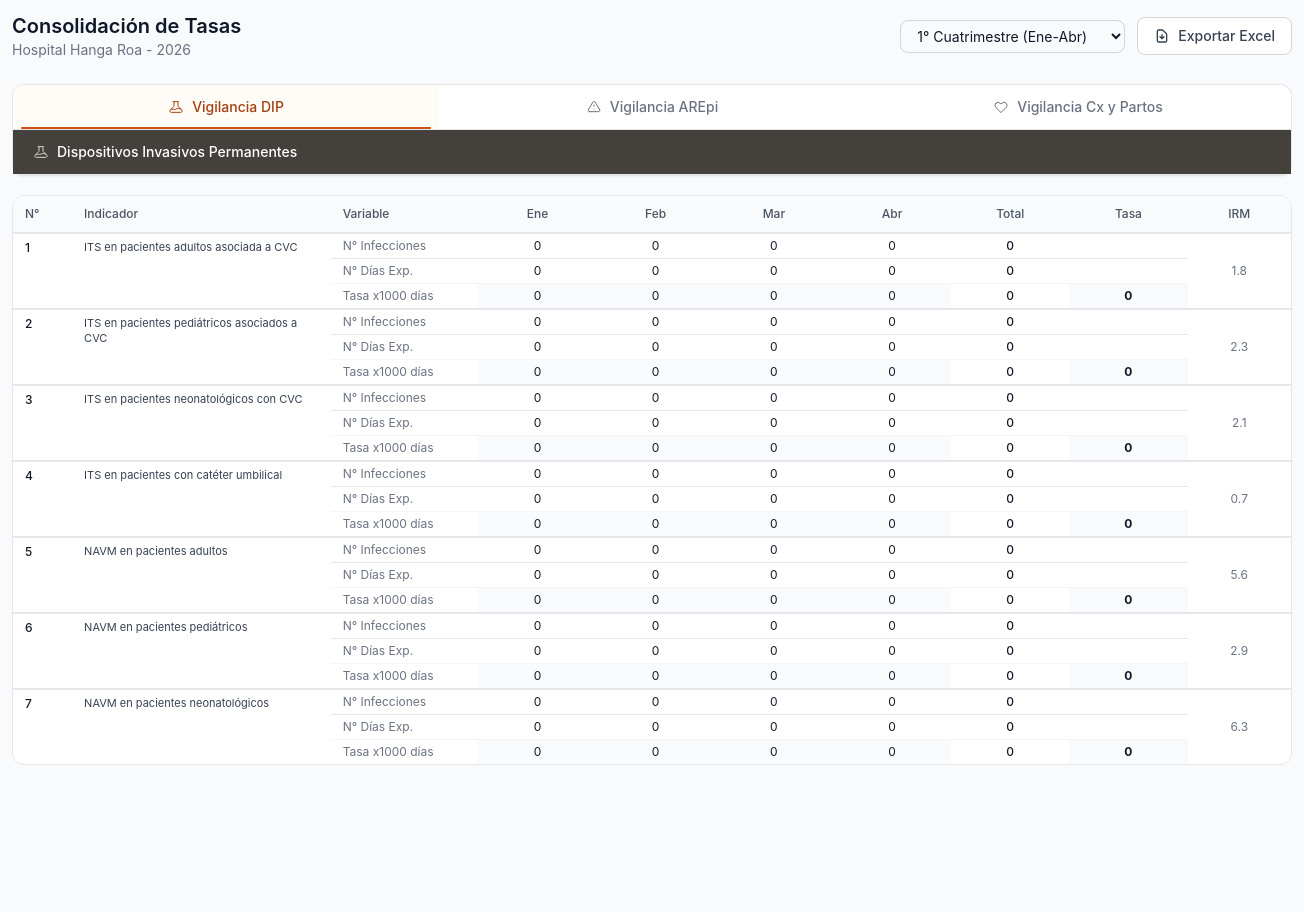
Test: ConsolidacionPage › switches to Cx/Partos tab
Click the button "Vigilancia Cx y Partos".
click(1078, 107)  # box [865,85,1291,129]
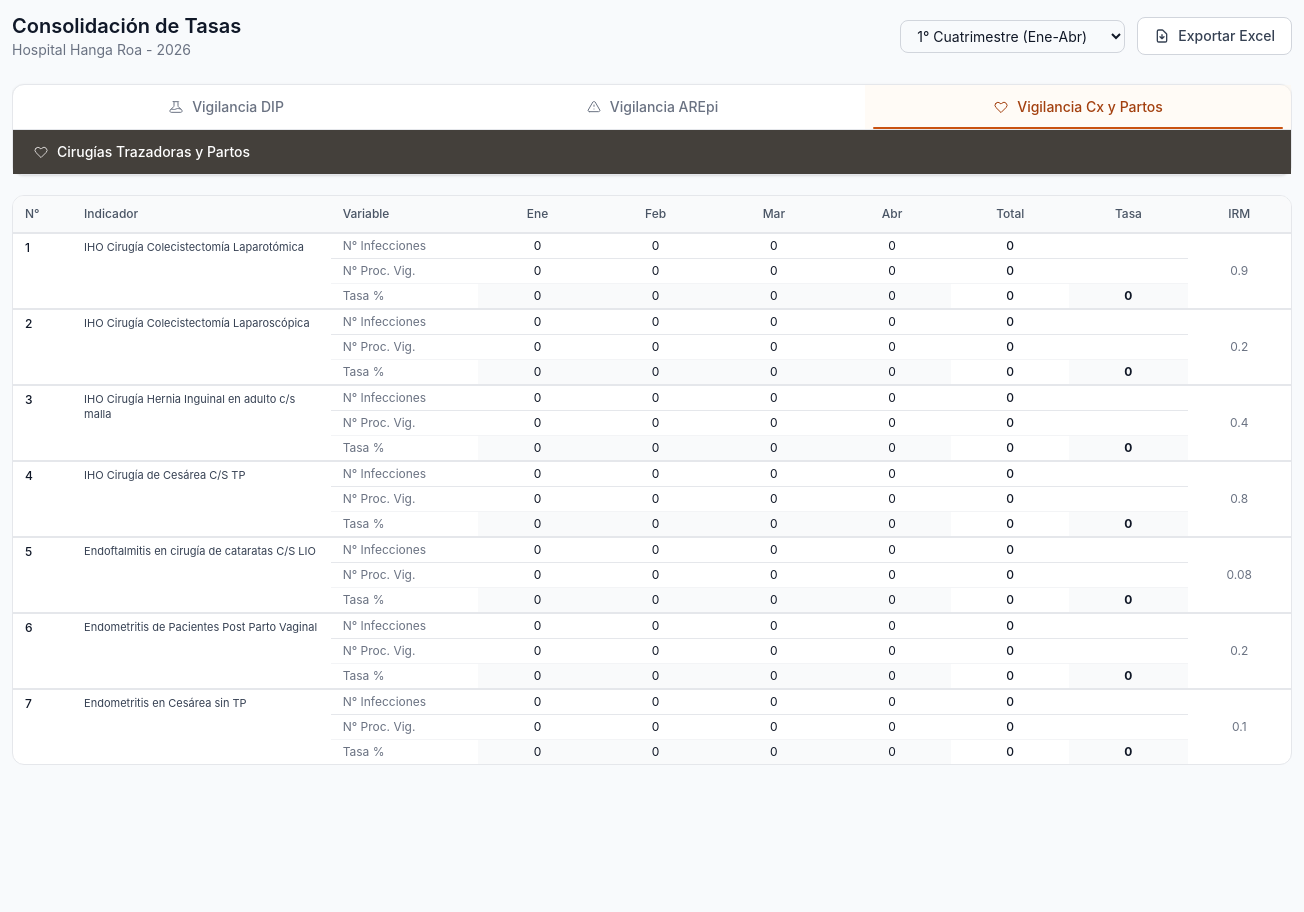
Expected: the text "IHO Cirugía Colecistectomía Laparotómica" is shown, [72,233,331,309]
